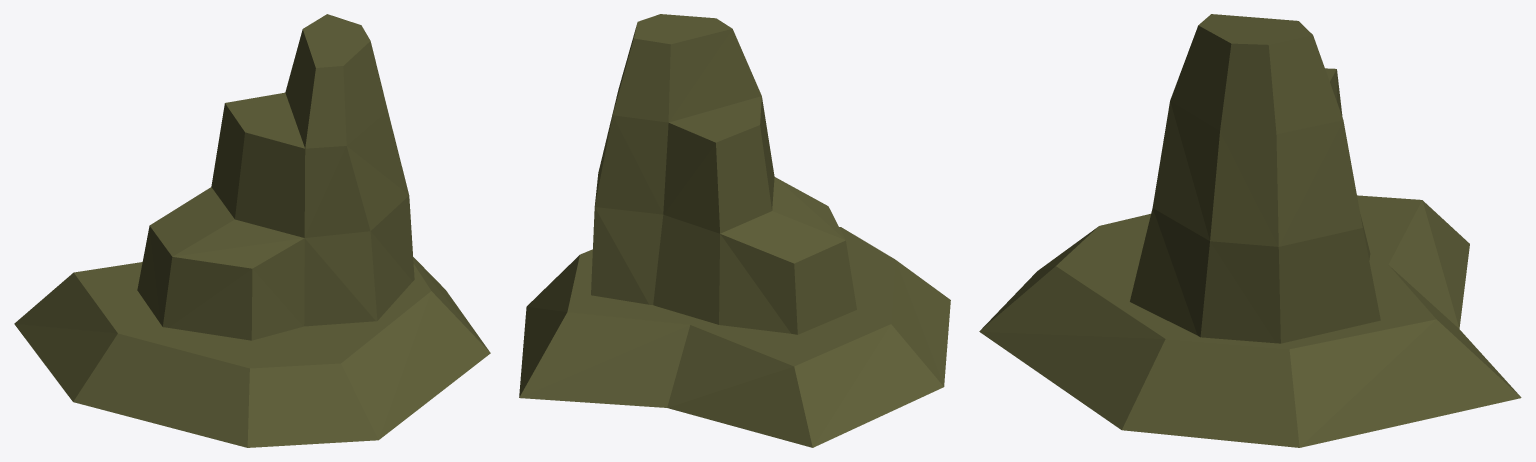
Rendered from seaBig_islandA.FBX.
3 renders of one model, left to right at view 1: azimuth 30°, elevation 25°; view 2: azimuth 150°, elevation 25°; view 3: azimuth 270°, elevation 25°, orthographic. The views are drawn at different scales.
Visible parts, largest first — view 1: seaBig_islandA; view 2: seaBig_islandA; view 3: seaBig_islandA.
Part boxes in pixels (x1=…): seaBig_islandA: x1=14, y1=14, x2=490, y2=447; seaBig_islandA: x1=519, y1=14, x2=950, y2=447; seaBig_islandA: x1=979, y1=14, x2=1521, y2=447.
Size of the model in its own units: 558 by 404 by 570.
